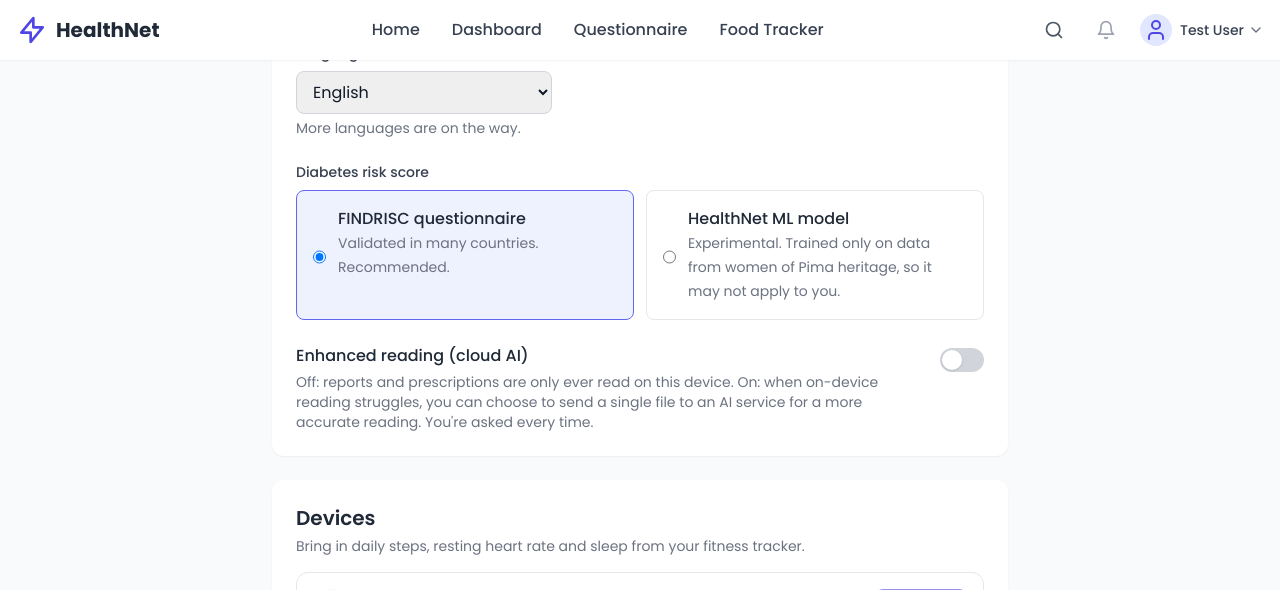
Test: enhanced reading is off by default and shows the server status when switched on
This screenshot has width=1280, height=590.
(page scrolled)
Click the switch named "enhanced reading" at [962, 360], box [940,348,984,372]
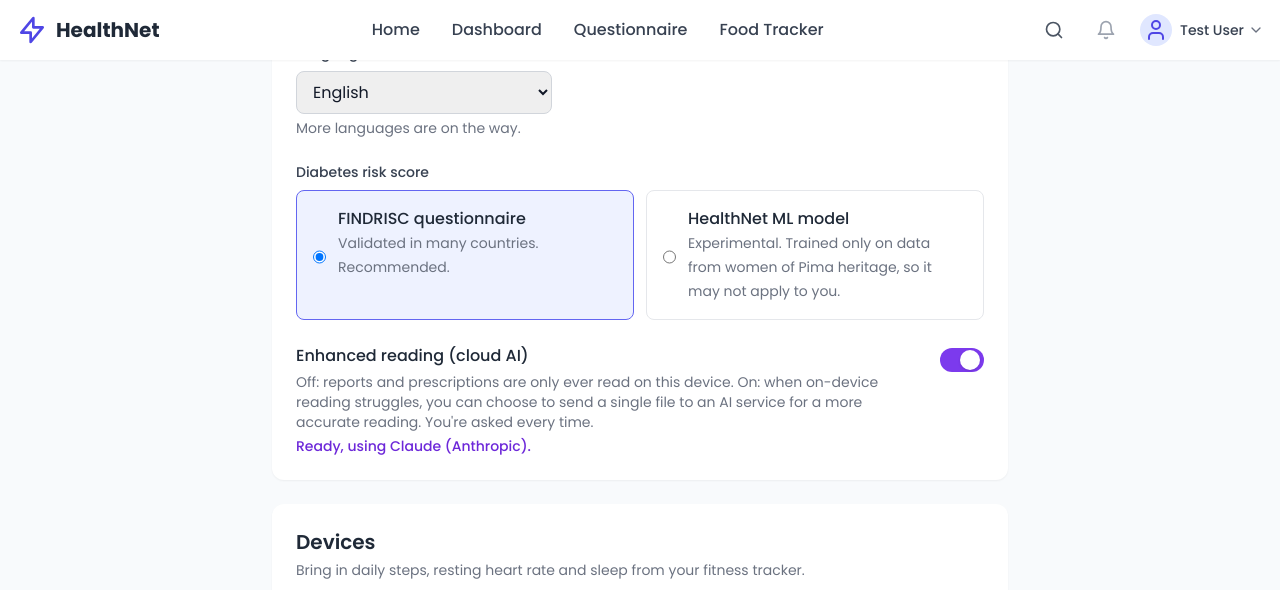
Now the text "Ready, using Claude (Anthropic)." is shown, box [296,436,531,456]
